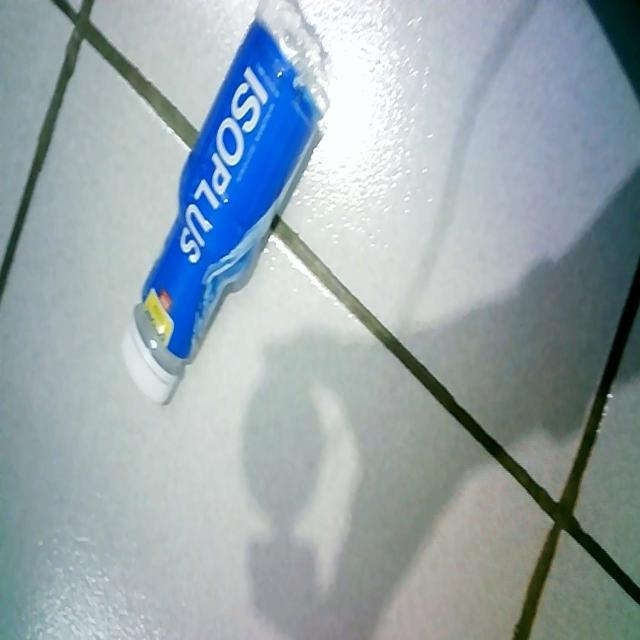botol: (122, 1, 337, 416)
